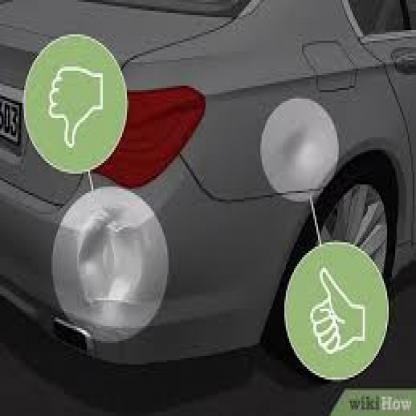dent: (76, 209, 146, 303), (281, 118, 318, 174)
